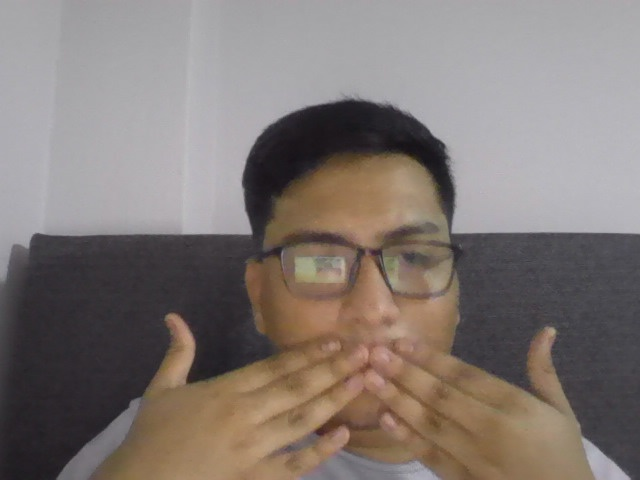Thanks: (118, 306, 613, 480)
